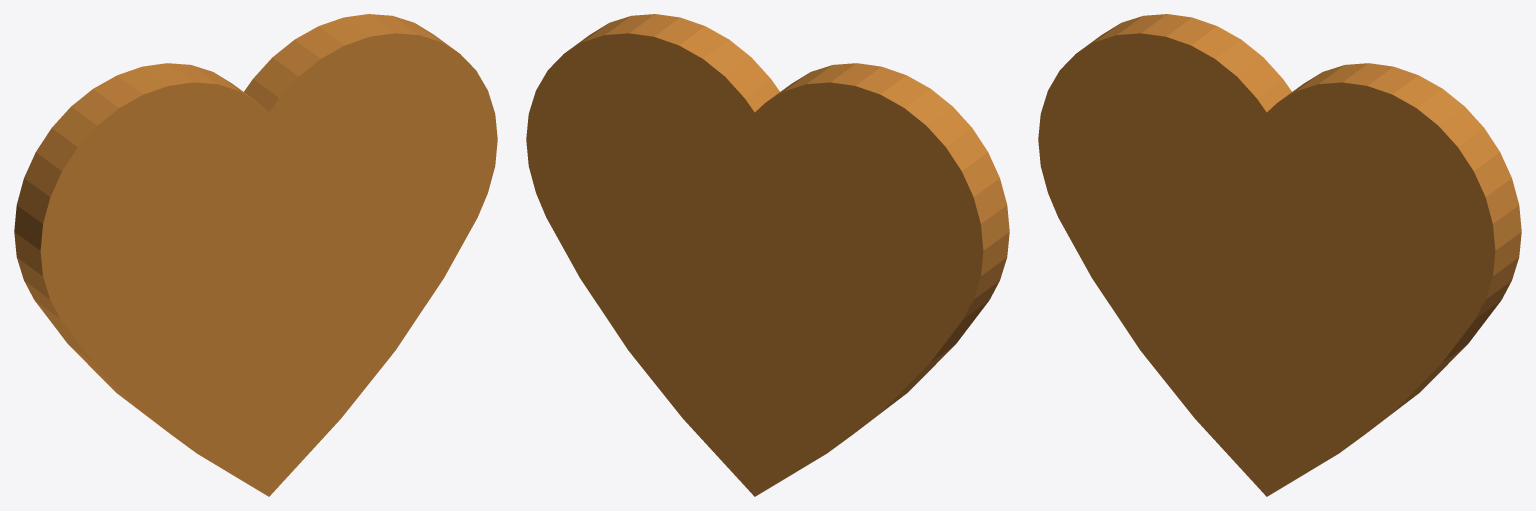
The model's file is SM_Icon_Heart_01.fbx.
The picture shows the model from 3 angles, left to right: view 1: azimuth 30°, elevation 25°; view 2: azimuth 150°, elevation 25°; view 3: azimuth 330°, elevation 25°; orthographic projection.
Visible parts, largest first — view 1: SM_Icon_Heart_01; view 2: SM_Icon_Heart_01; view 3: SM_Icon_Heart_01.
Part boxes in pixels (<box>): SM_Icon_Heart_01: <box>14,14,497,496</box>; SM_Icon_Heart_01: <box>526,14,1009,496</box>; SM_Icon_Heart_01: <box>1038,14,1521,496</box>.
Size of the model in its own units: 63.25 by 57.6 by 6.32.
